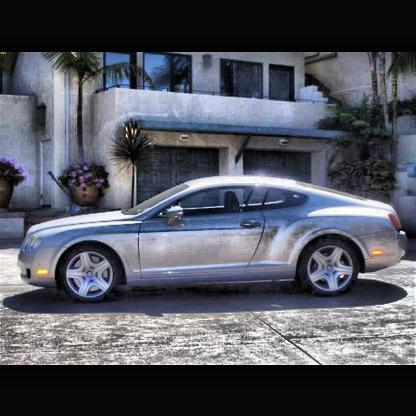Bentley Continental GT Coupe 2007: (18, 176, 409, 304)
